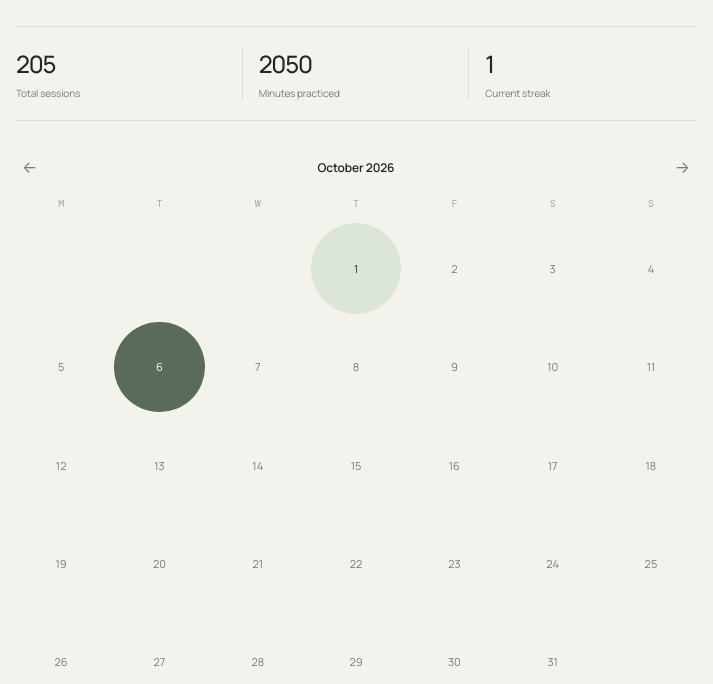
Test case: selects dates, replaces reflections, handles an empty day and keeps lifetime totals
Click the button named "2026-10-01" at (356, 269), box top-left (311, 223), bottom-right (401, 314)
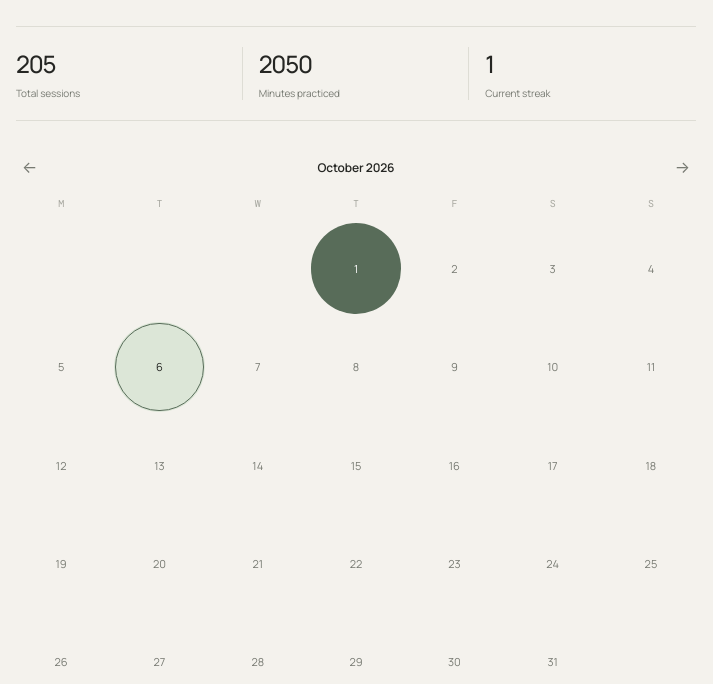
Expected: the text "205" is shown, top-left (16, 47), bottom-right (55, 80)
Expected: the button named "2026-10-01" is pressed, top-left (311, 223), bottom-right (401, 314)
Click the button "2" at (454, 269), box top-left (409, 223), bottom-right (500, 314)
(page scrolled)
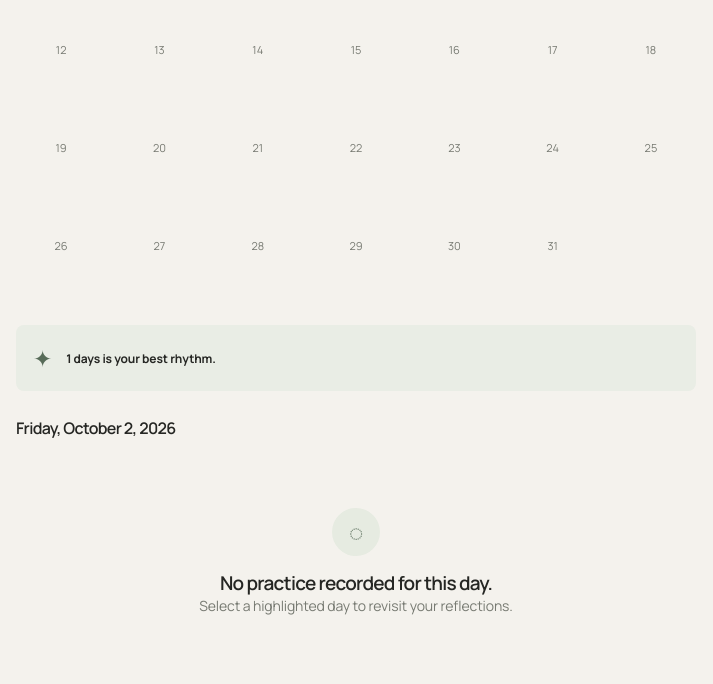
Expected: the heading "No practice recorded for this day." is shown, top-left (220, 570), bottom-right (492, 596)
